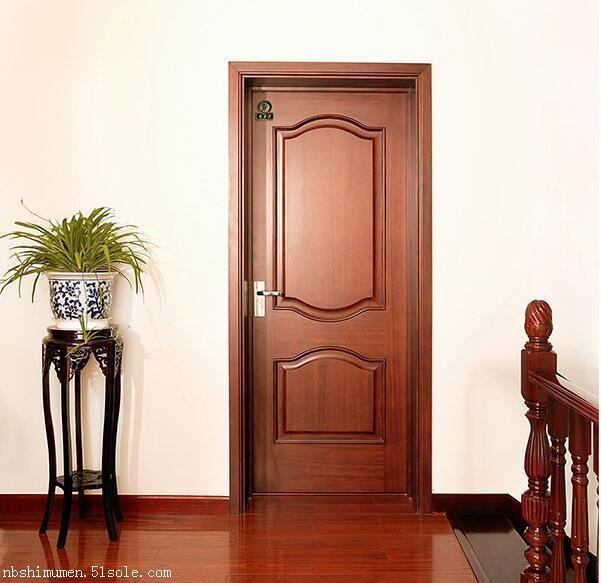door: (238, 75, 423, 504)
